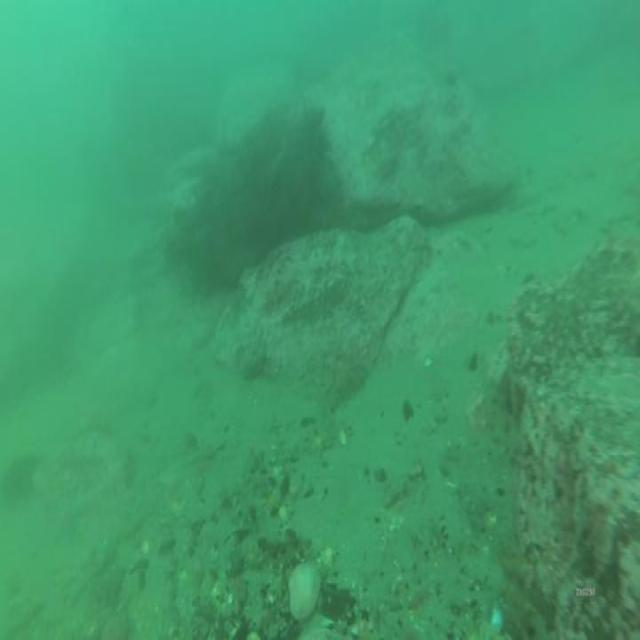scallop: (290, 566, 322, 621)
